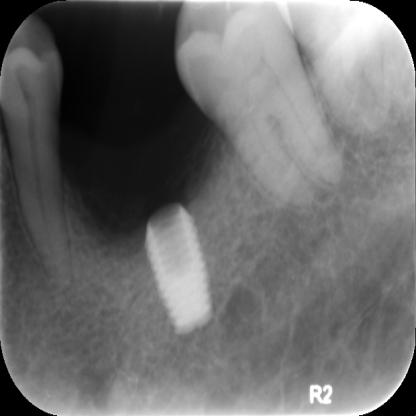Bicon: (142, 202, 220, 336)
